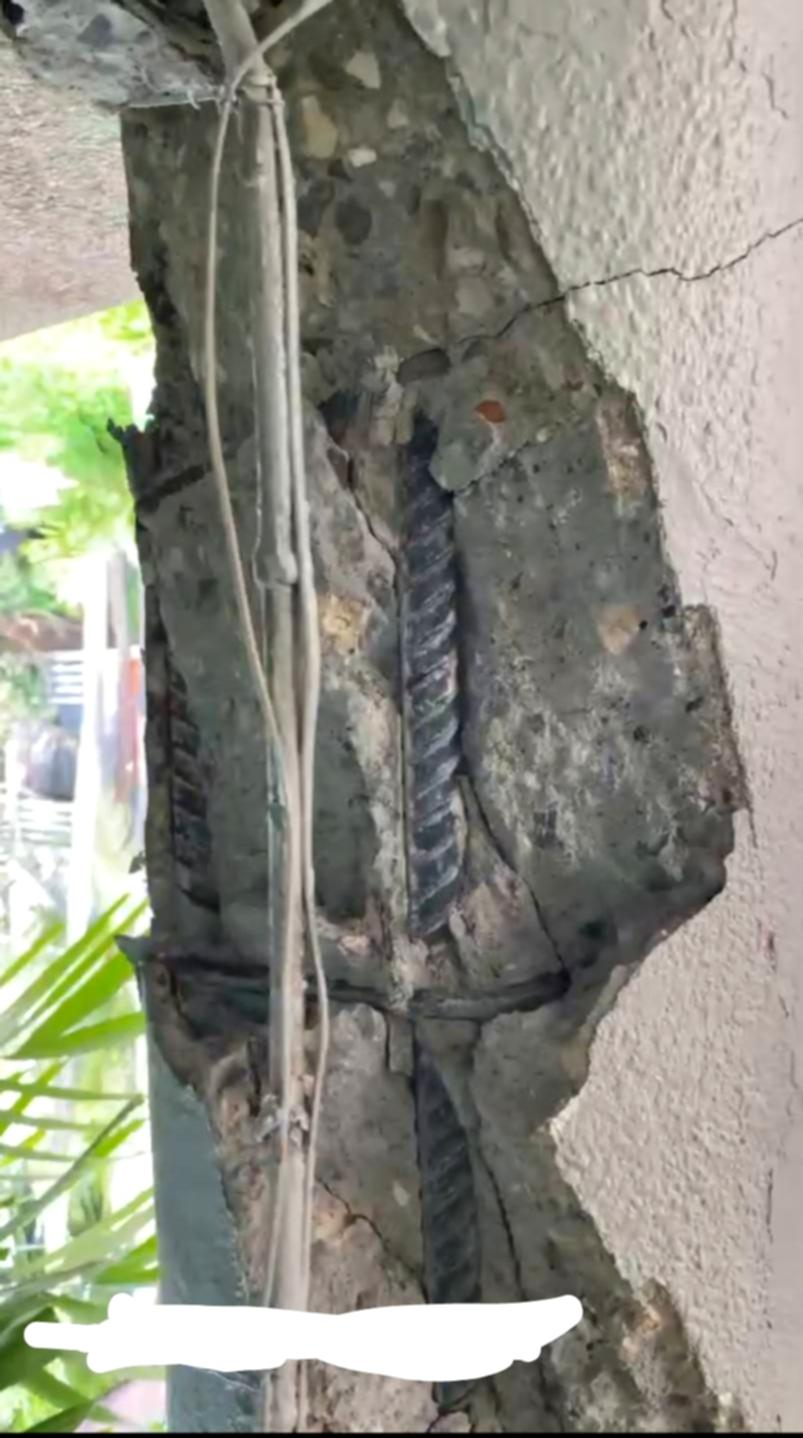High: (116, 4, 758, 1294)
